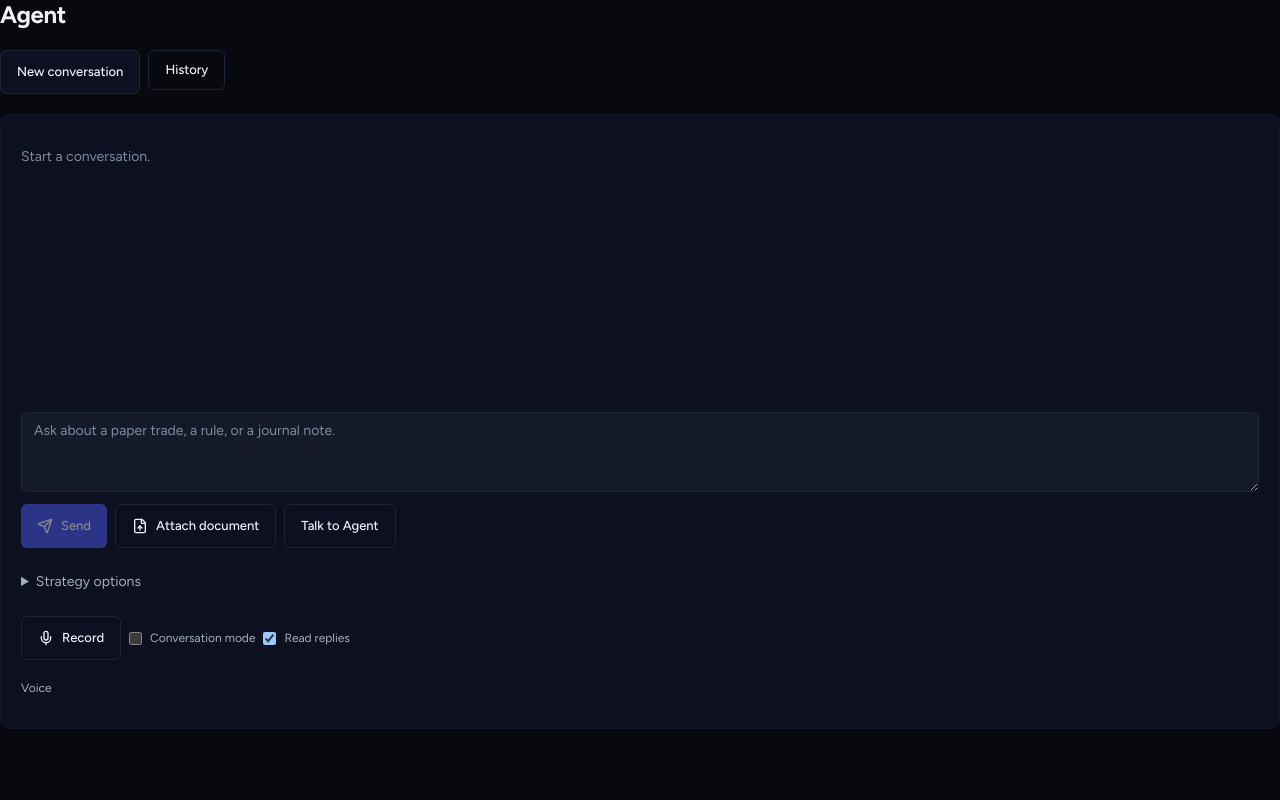
Test: Agent workspace › runs two successive spoken turns from a new conversation through the shared pipeline
The width and height of the screenshot is (1280, 800).
Click the checkbox labelled "Conversation mode" at [136, 638], box x1=129 y1=632 x2=142 y2=644
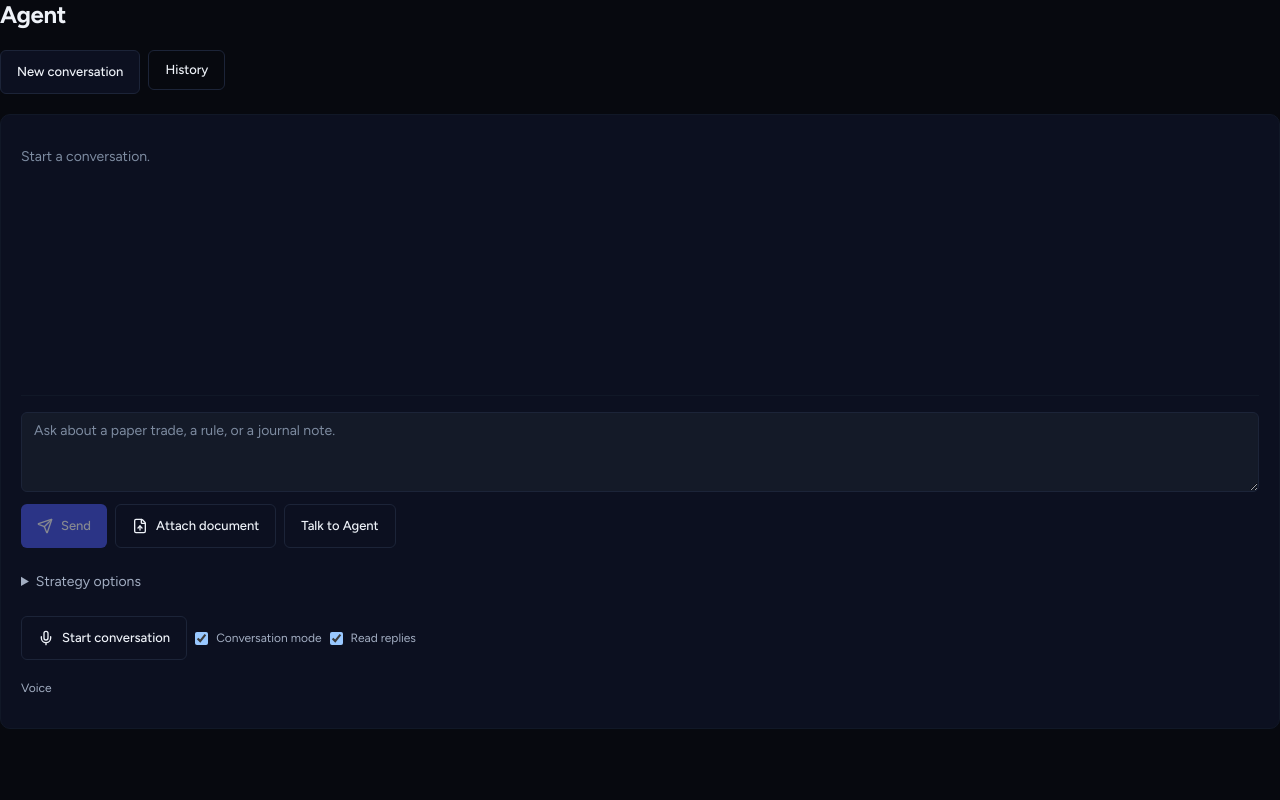
Click the button "Start conversation" at [104, 638], box x1=21 y1=616 x2=187 y2=660
(page scrolled)
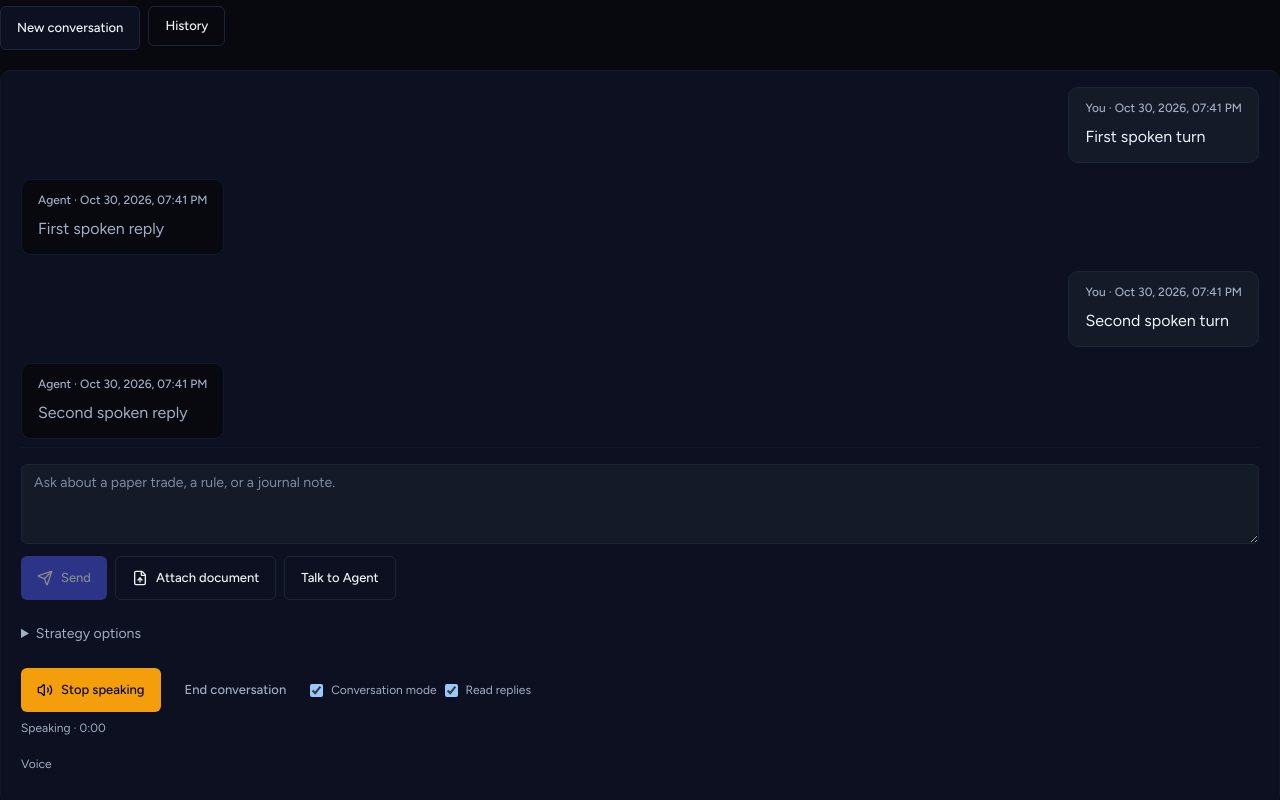
Expected: the number of elements named "Voice conversation" is 1, x1=21 y1=668 x2=531 y2=771
Expected: the text "First spoken reply" is shown, x1=38 y1=219 x2=164 y2=238
Expected: the text "Second spoken reply" is shown, x1=38 y1=400 x2=207 y2=426
